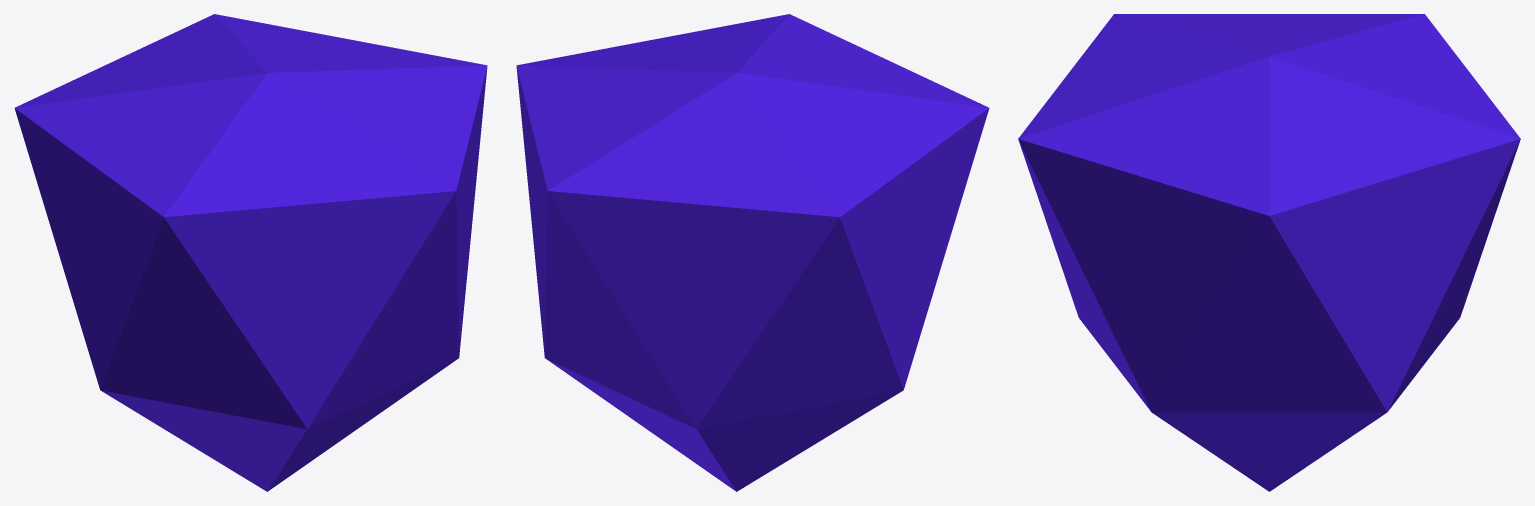
The model's file is polseraphym.dae.
3 views of the same model, side by side, from view 1: azimuth 30°, elevation 25°; view 2: azimuth 150°, elevation 25°; view 3: azimuth 270°, elevation 25° (orthographic). The views are drawn at different scales.
Parts seen in each view (by area): view 1: Icosphere; view 2: Icosphere; view 3: Icosphere.
Boxes of the visible parts, x1=… form: Icosphere: x1=14, y1=14, x2=487, y2=491; Icosphere: x1=516, y1=14, x2=989, y2=491; Icosphere: x1=1018, y1=14, x2=1520, y2=491.
Size of the model in its own units: 0.2304 by 0.2422 by 0.2315.
